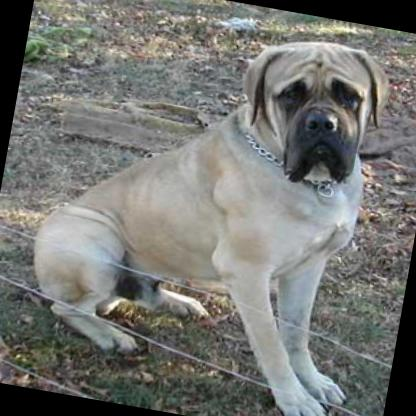bull_mastiff: (4, 0, 406, 416)
